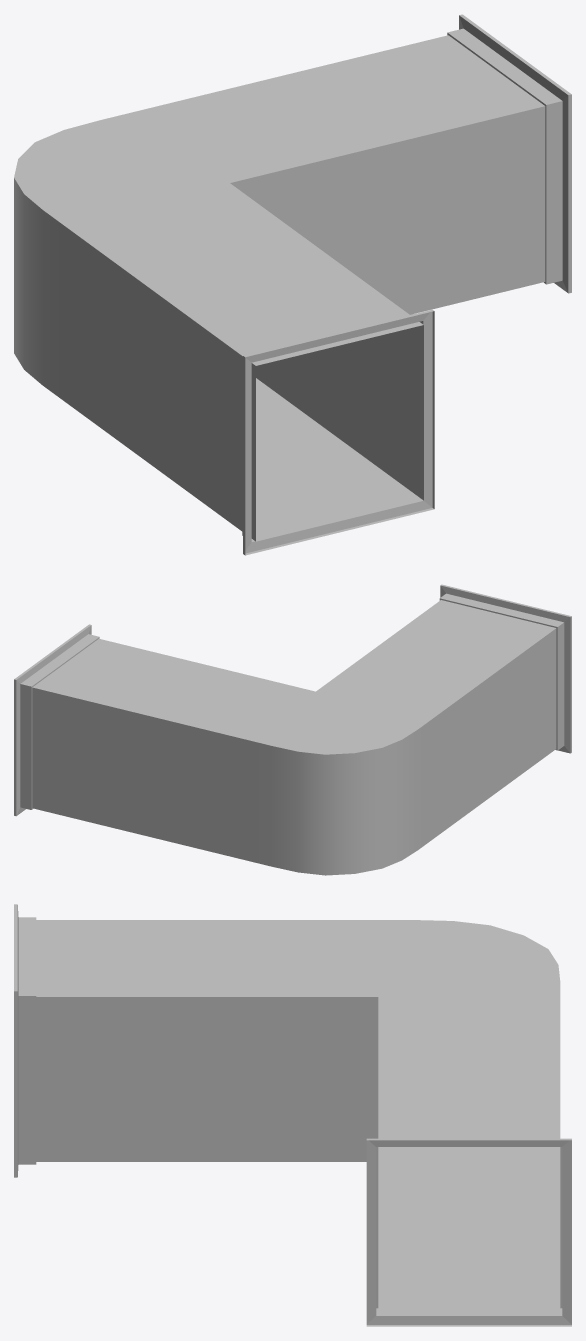
Rendered from SM_Airing_Turn.FBX.
3 views of the same model, one above another, from view 1: azimuth 30°, elevation 25°; view 2: azimuth 150°, elevation 25°; view 3: azimuth 270°, elevation 25° (orthographic). The views are drawn at different scales.
Parts seen in each view (by area): view 1: SM_Airing_Turn; view 2: SM_Airing_Turn; view 3: SM_Airing_Turn.
Boxes of the visible parts, box(x1,y1,x2,y2) form: SM_Airing_Turn: box(14, 14, 571, 555); SM_Airing_Turn: box(14, 584, 571, 875); SM_Airing_Turn: box(14, 904, 571, 1326).
Size of the model in its own units: 153 by 56.42 by 153.
Materials: 1 (1 with a texture image).
